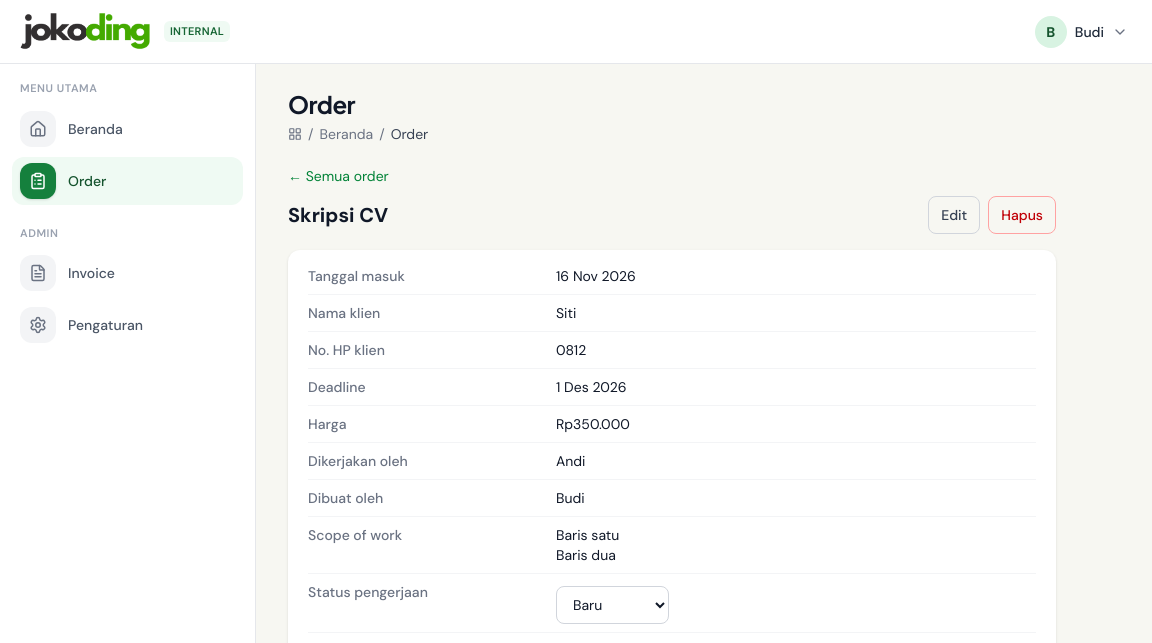
OrderDetail › admin delete asks confirm then DELETEs
Click the button "Hapus" at (1022, 215), box [988, 196, 1056, 234]
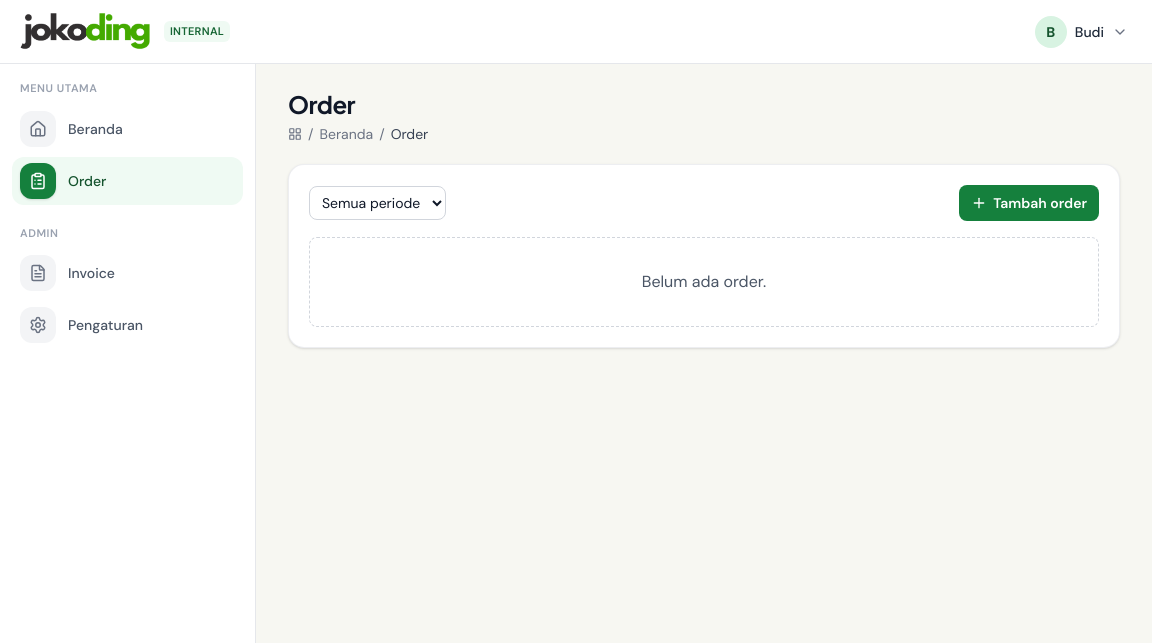
Expected: the text "Belum ada order." is shown, [309, 237, 1099, 327]
